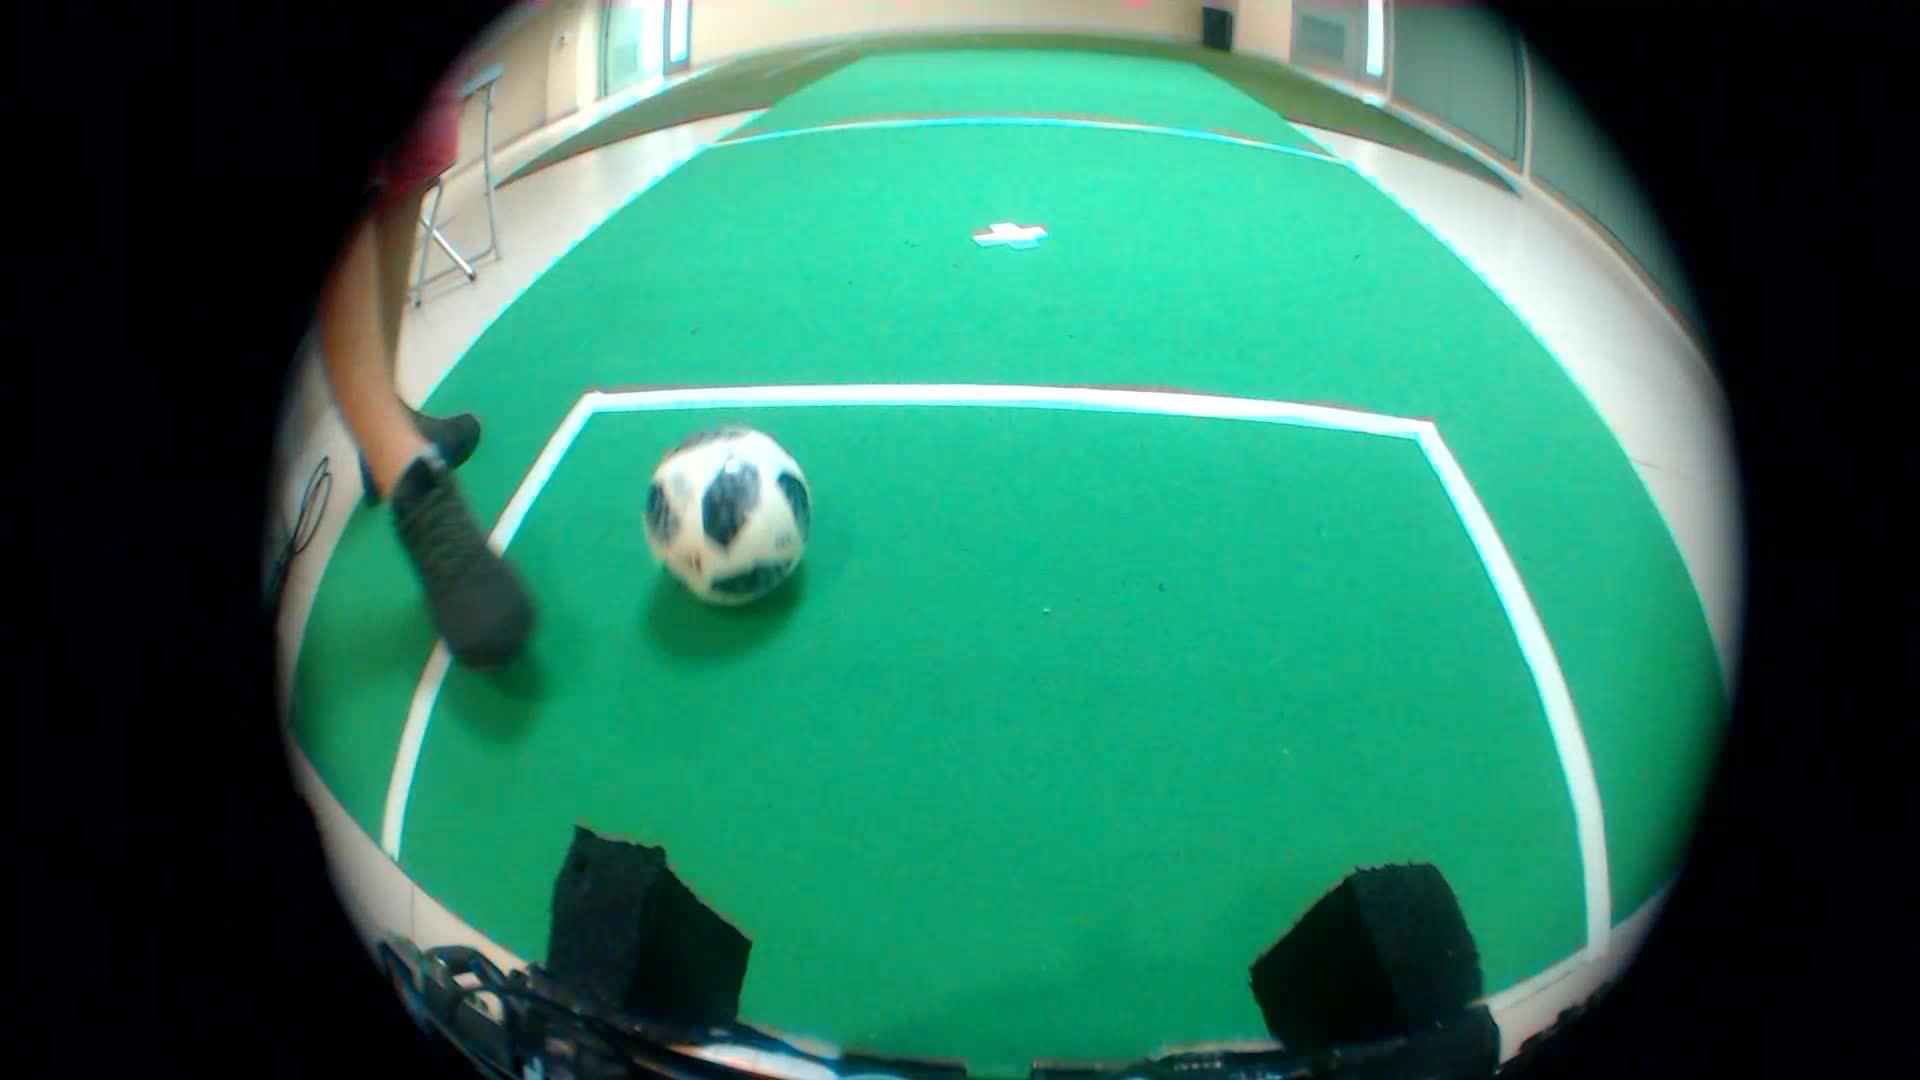ball: (621, 404, 829, 625)
